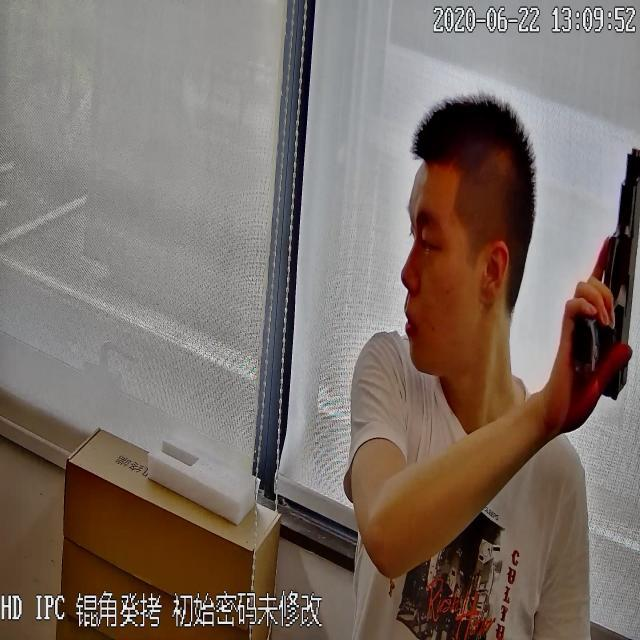gun-knife-thesis - v11 Yolov5 augmented: (570, 139, 640, 409)
